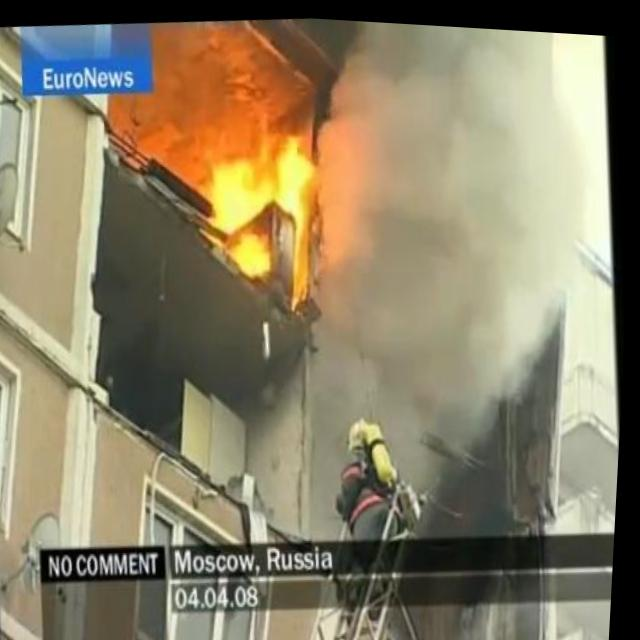fire: (196, 111, 329, 277)
